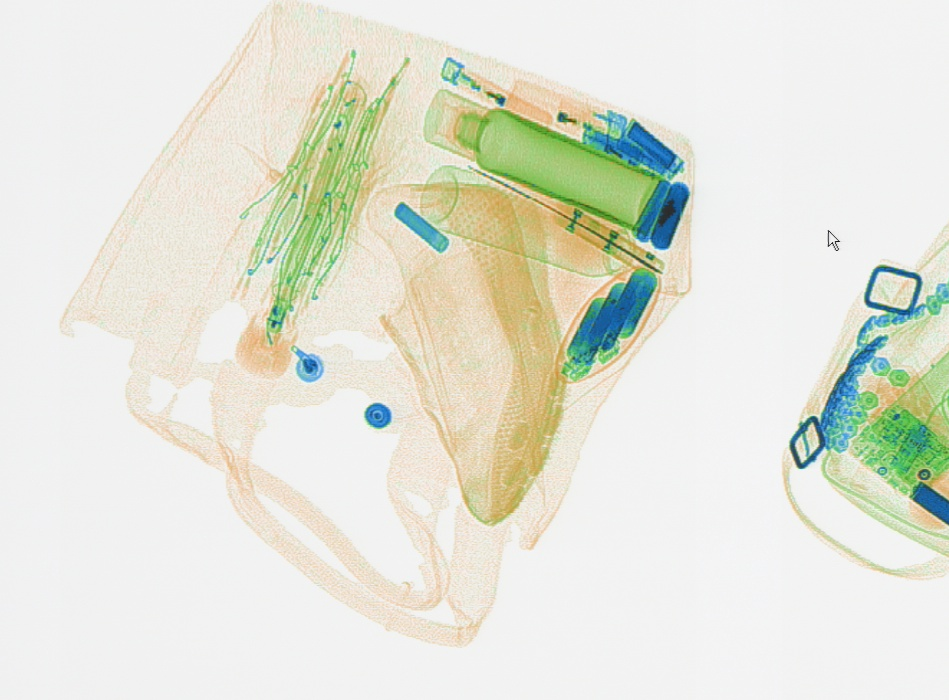knife: (463, 162, 664, 280)
lighter: (435, 57, 554, 135), (498, 78, 626, 141)
powerbank: (554, 260, 664, 387)
